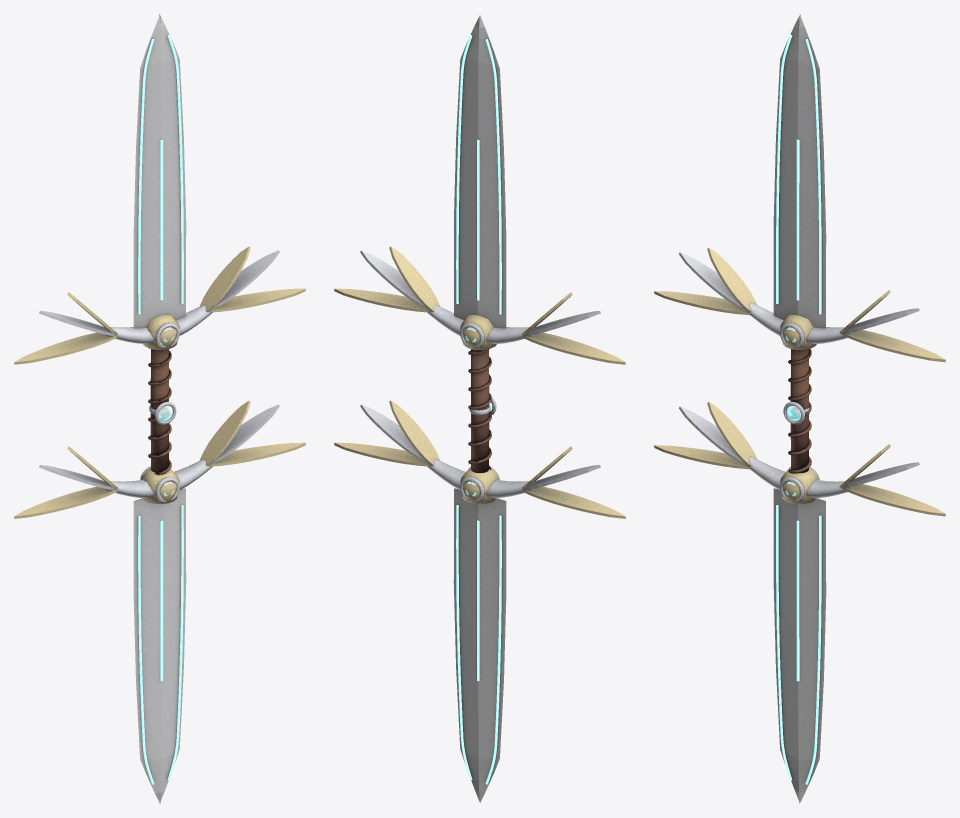
Rendered from arma_lend_espada_dupla_sagrado.glb.
3 views of the same model, side by side, from view 1: azimuth 30°, elevation 25°; view 2: azimuth 150°, elevation 25°; view 3: azimuth 330°, elevation 25° (orthographic).
Parts seen in each view (by area): view 1: arma_lend_espada_dupla_sagrado, lamina_baixo_gume1b, lamina_cima_gume-1, lamina_cima_gume1, lamina_baixo_gume-1b, lamina_baixo_runa1, lamina_cima_runa-1; view 2: arma_lend_espada_dupla_sagrado, lamina_baixo_gume1, lamina_cima_gume-1b, lamina_baixo_gume-1, lamina_cima_gume1b; view 3: arma_lend_espada_dupla_sagrado, lamina_cima_gume1, lamina_baixo_gume-1b, lamina_baixo_gume1b, lamina_cima_gume-1, lamina_baixo_runa1, lamina_cima_runa-1.
Boxes of the visible parts, <box> form: arma_lend_espada_dupla_sagrado: <box>14,14,305,803</box>; lamina_baixo_gume1b: <box>167,505,183,780</box>; lamina_cima_gume-1: <box>138,39,154,314</box>; lamina_cima_gume1: <box>167,34,183,303</box>; lamina_baixo_gume-1b: <box>138,515,154,784</box>; lamina_baixo_runa1: <box>160,520,163,681</box>; lamina_cima_runa-1: <box>160,139,163,300</box>; arma_lend_espada_dupla_sagrado: <box>334,14,625,802</box>; lamina_baixo_gume1: <box>456,505,472,780</box>; lamina_cima_gume-1b: <box>485,39,501,314</box>; lamina_baixo_gume-1: <box>485,515,501,784</box>; lamina_cima_gume1b: <box>456,35,472,303</box>; arma_lend_espada_dupla_sagrado: <box>654,14,945,803</box>; lamina_cima_gume1: <box>805,39,821,314</box>; lamina_baixo_gume-1b: <box>776,505,792,780</box>; lamina_baixo_gume1b: <box>805,515,821,784</box>; lamina_cima_gume-1: <box>776,34,792,303</box>; lamina_baixo_runa1: <box>796,520,799,681</box>; lamina_cima_runa-1: <box>796,139,799,300</box>.
Bounding box in the file's own units: 0.713 × 1.85 × 0.085.
Materials: 18 (1 with a texture image).
